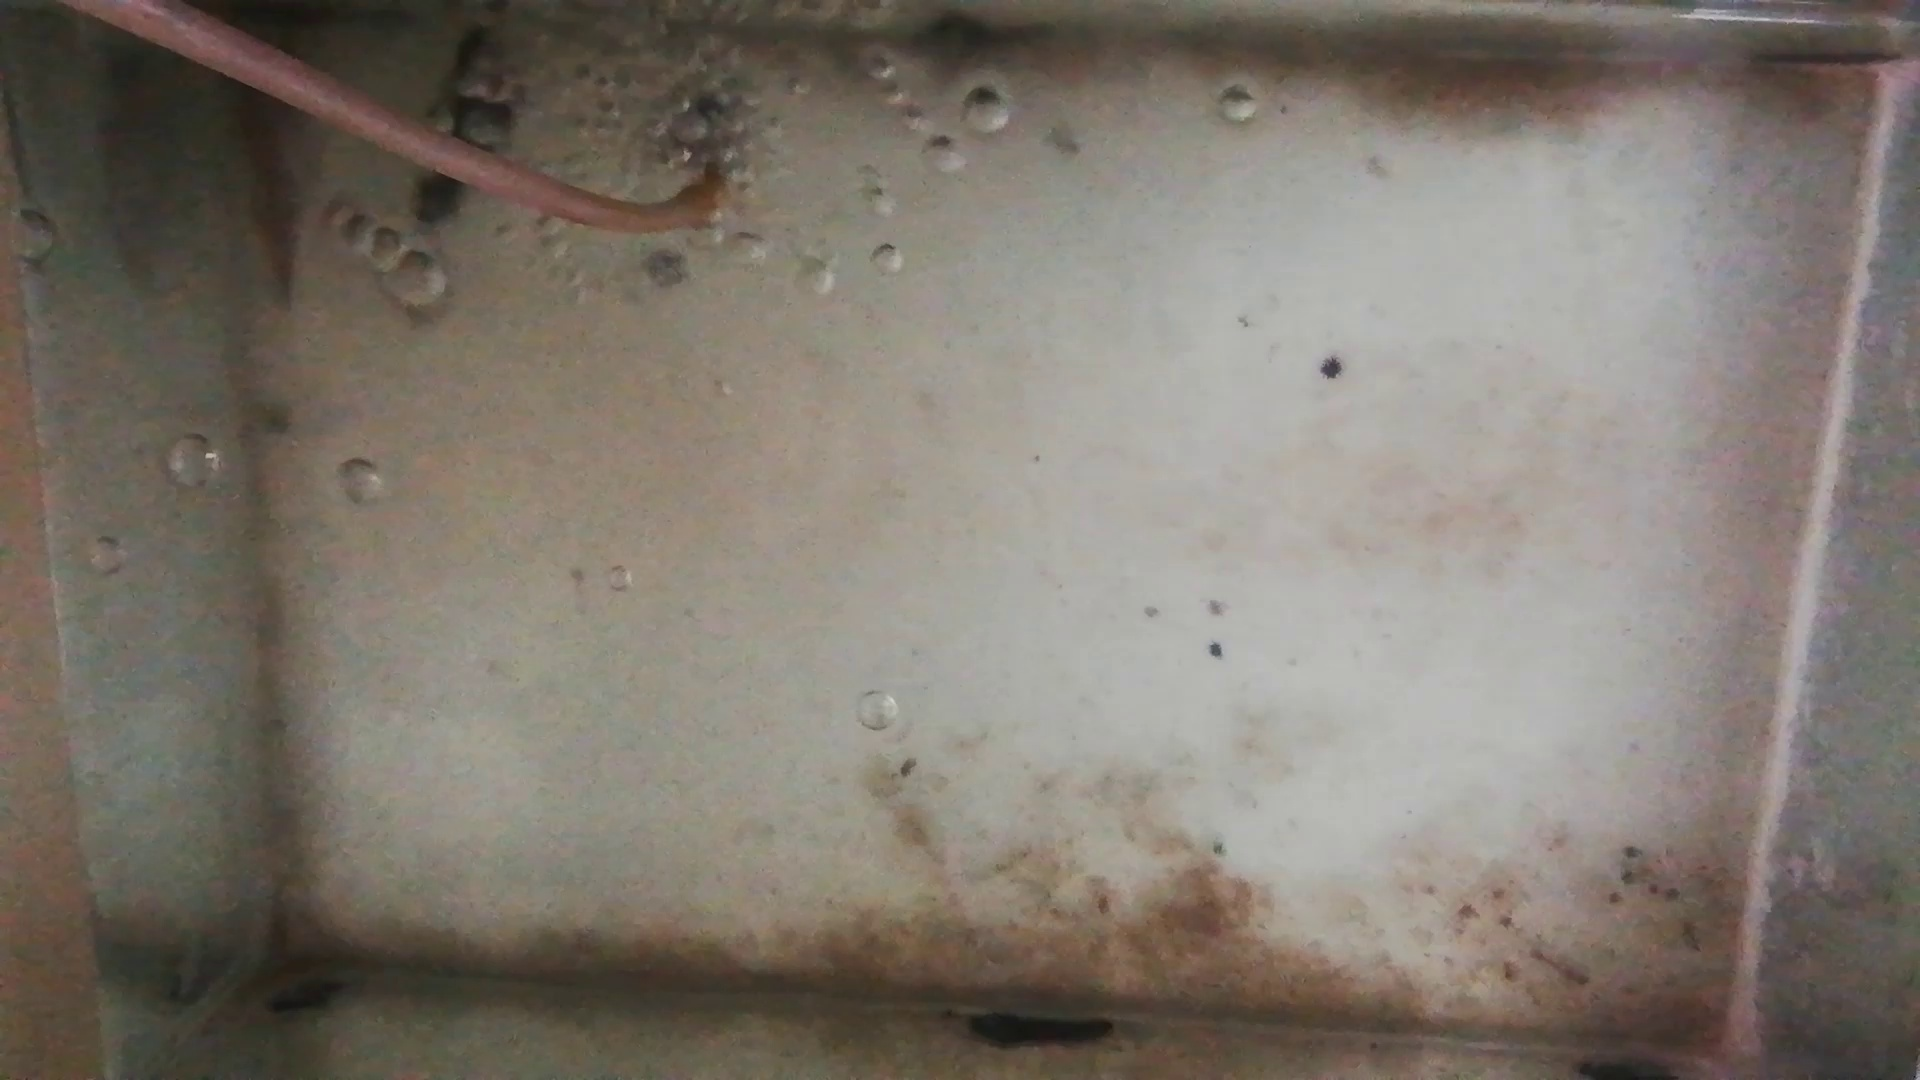fish: (419, 33, 514, 233), (227, 69, 299, 303)
